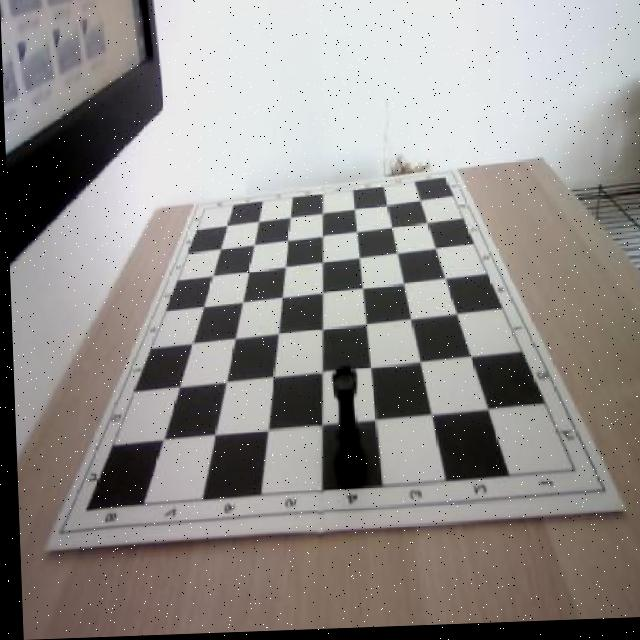black-queen: (326, 364, 364, 487)
